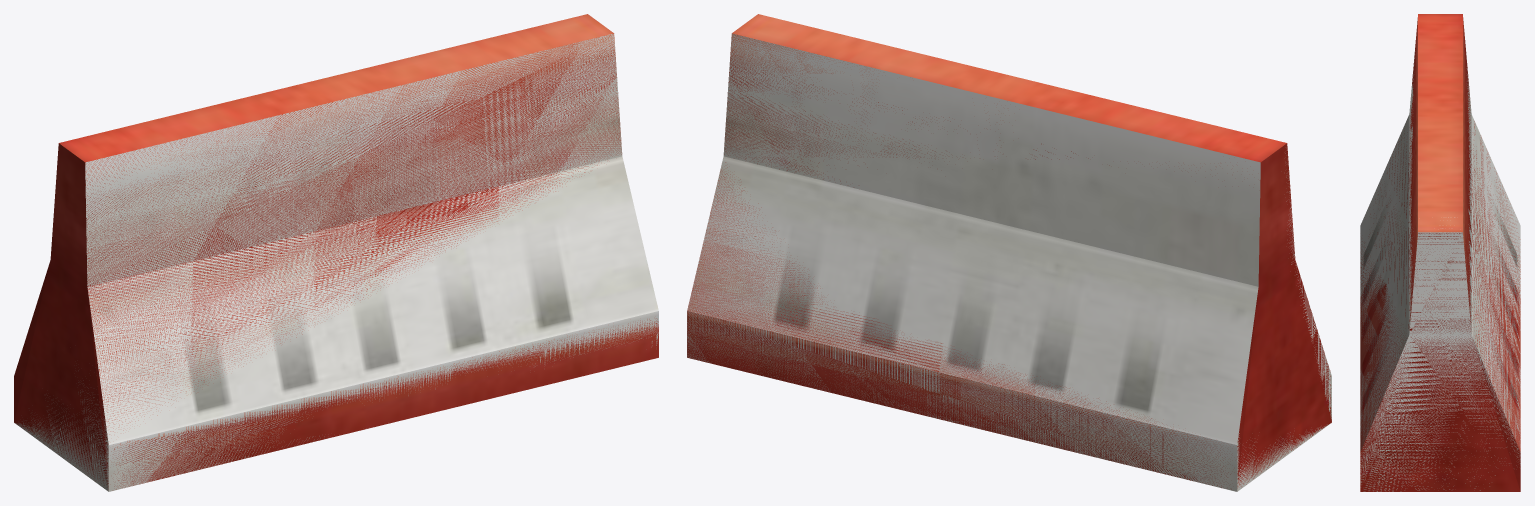
File: dividers_plastic_red_n_white.FBX
3 views of the same model, side by side, from view 1: azimuth 30°, elevation 25°; view 2: azimuth 150°, elevation 25°; view 3: azimuth 270°, elevation 25° (orthographic). The views are drawn at different scales.
Parts seen in each view (by area): view 1: prop_divider_white, prop_divider_orange; view 2: prop_divider_white, prop_divider_orange; view 3: prop_divider_orange, prop_divider_white.
Boxes of the visible parts, x1,y1,x2,y2 form: prop_divider_white: [15, 34, 658, 491]; prop_divider_orange: [14, 14, 658, 489]; prop_divider_white: [687, 33, 1331, 491]; prop_divider_orange: [687, 14, 1331, 489]; prop_divider_orange: [1360, 14, 1520, 491]; prop_divider_white: [1360, 51, 1520, 491].
Size of the model in its own units: 186 by 97.54 by 55.43.
Materials: 1 (1 with a texture image).
